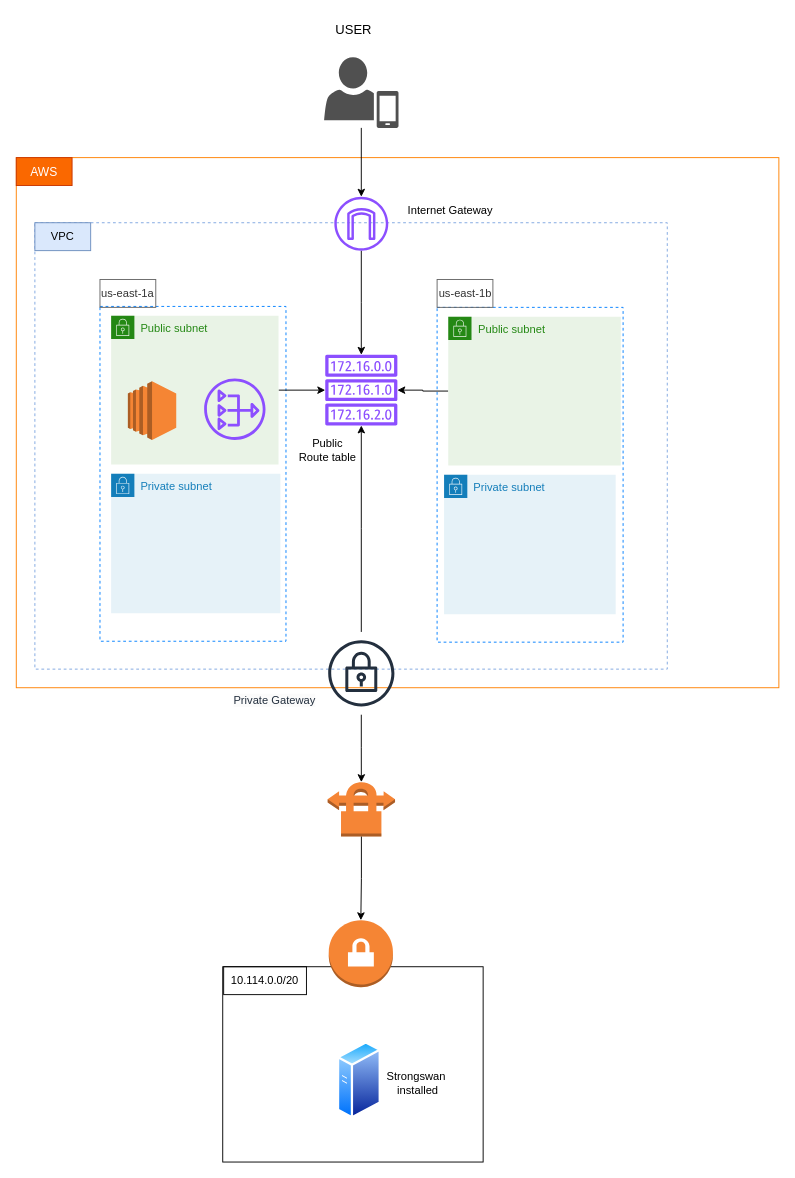
Image size: 795x1178. Some labels were removed from this diagram. The shapes that lost their labels are listed below. From the top down, each one's centre as x and y in pixels, then its label:
(151,410): Nginx-Server
(234,408): Nat-Gateway
(360,953): Customer Gateway
(359,1080): Server
